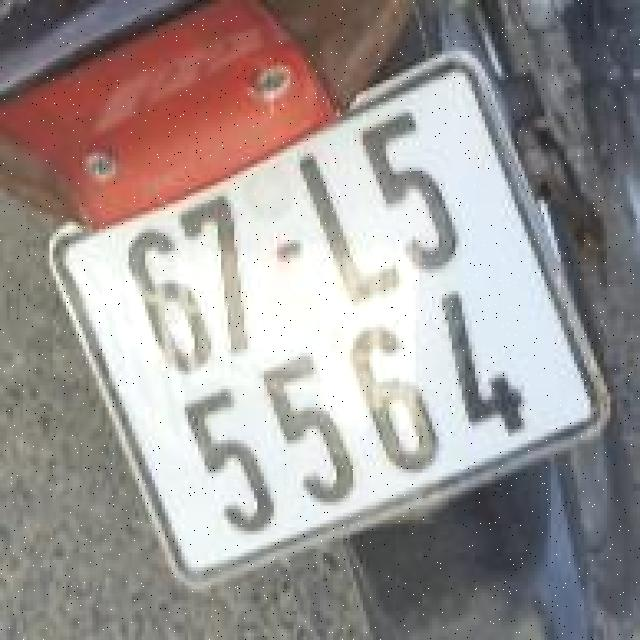4: (420, 267, 545, 453)
5: (340, 89, 487, 285), (169, 378, 292, 551), (250, 342, 371, 516)
6: (332, 309, 456, 485), (113, 209, 225, 389)
7: (169, 184, 274, 365)
L: (283, 127, 416, 324)
